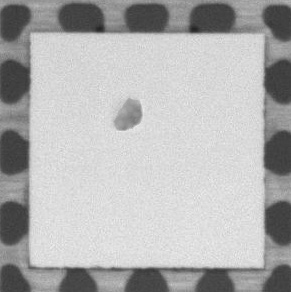DIE_INK: (108, 92, 147, 136)
